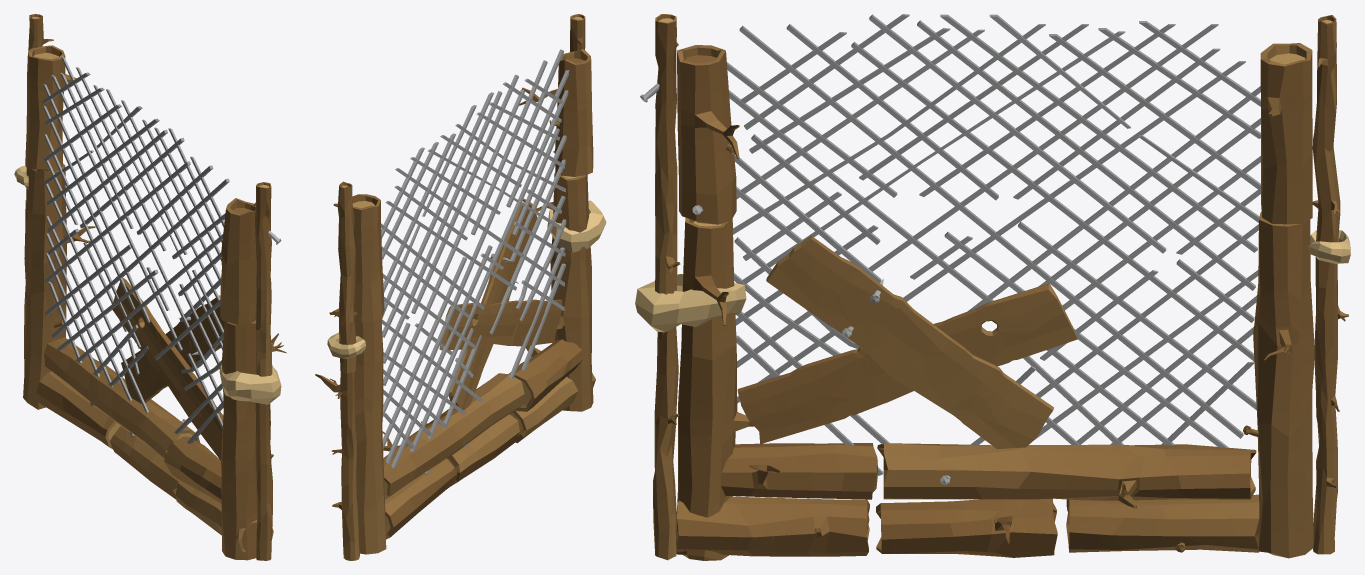
Rendered from metal_wire_fence.glb.
3 renders of one model, left to right at view 1: azimuth 30°, elevation 25°; view 2: azimuth 150°, elevation 25°; view 3: azimuth 270°, elevation 25°, orthographic. The views are drawn at different scales.
Visible parts, largest first — view 1: metal_wire_fence; view 2: metal_wire_fence; view 3: metal_wire_fence.
Boxes of the visible parts, x1=… form: metal_wire_fence: x1=14, y1=14, x2=286, y2=560; metal_wire_fence: x1=315, y1=14, x2=606, y2=560; metal_wire_fence: x1=635, y1=14, x2=1350, y2=560.
Bounding box in the file's own units: 0.3695 × 1.73 × 2.08.
1 material, 1 textured.
